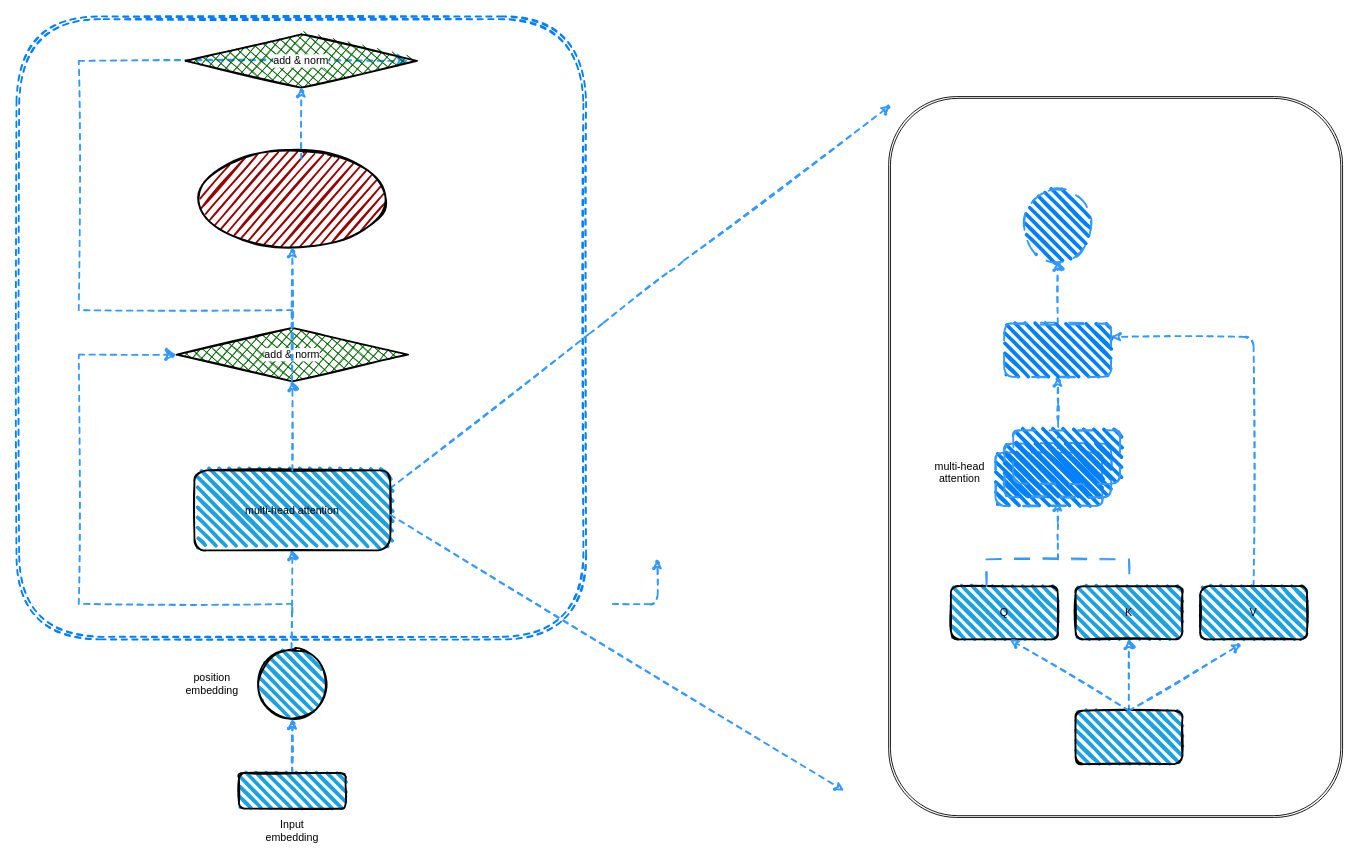
Some shapes in this 1358 by 859 pixel diagram are drawn without their labels. Here are the shapes that lost their labels. From the top down, the centre of each, then its label:
[292,198]: FNN
[1057,225]: attention matrics
[1128,737]: inputs
